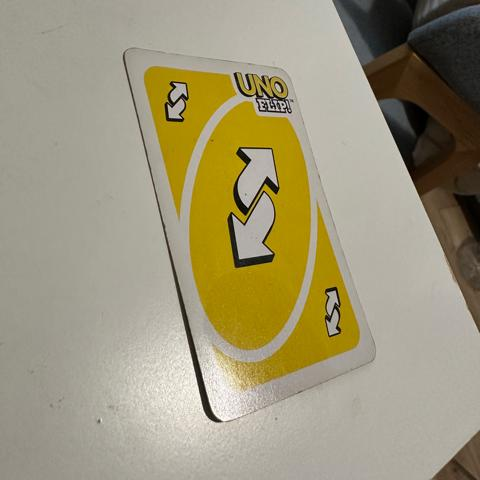lyellowrevers-20: (151, 61, 206, 138)
